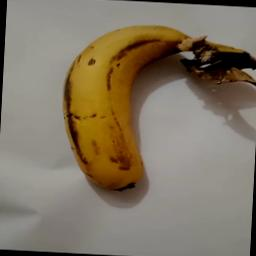Banana Unripe: (57, 19, 256, 200)
